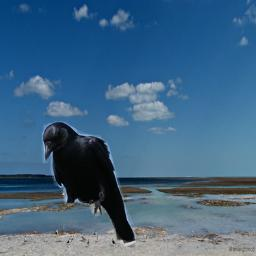Crow: (41, 121, 136, 249)
